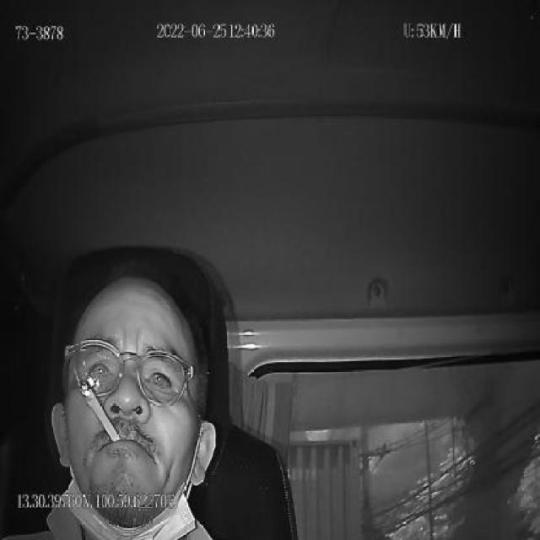smoking: (80, 381, 120, 443)
